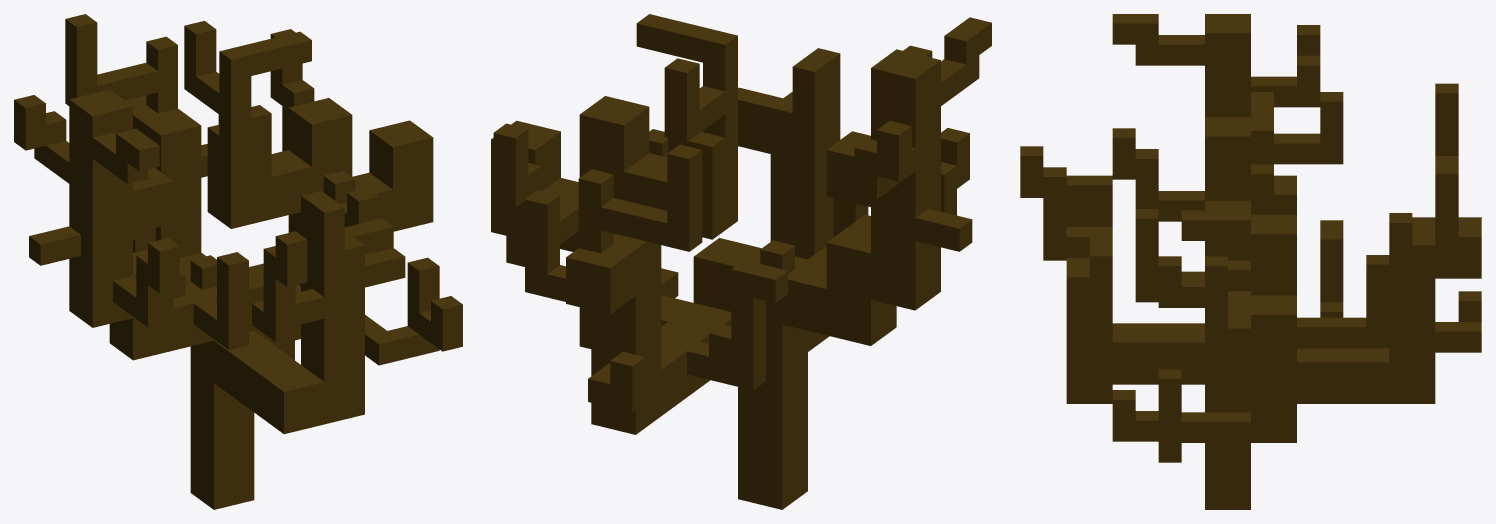
The model's file is chapter2_sticktree.fbx.
3 views of the same model, side by side, from view 1: azimuth 30°, elevation 25°; view 2: azimuth 150°, elevation 25°; view 3: azimuth 270°, elevation 25° (orthographic). The views are drawn at different scales.
Visible parts, largest first — view 1: Box; view 2: Box; view 3: Box.
Part boxes in pixels (left/top/right/bottom): Box: left=14, top=14, right=462, bottom=509; Box: left=491, top=14, right=991, bottom=509; Box: left=1020, top=14, right=1481, bottom=509.
Bounding box in the file's own units: 20 × 20 × 20.
